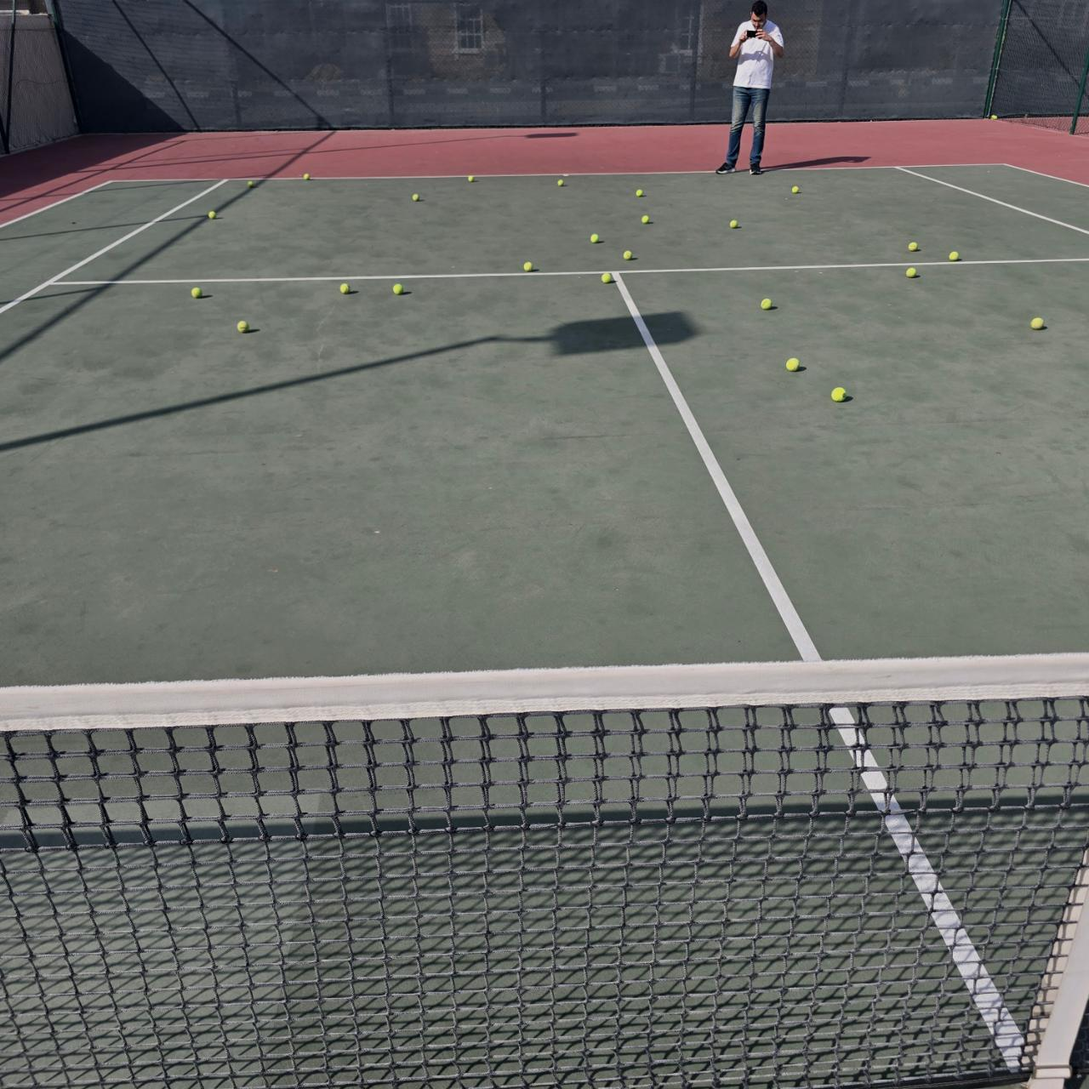tennis-ball: (831, 386, 848, 401), (786, 357, 800, 371), (1030, 316, 1045, 329), (237, 318, 250, 333), (191, 284, 203, 298), (601, 271, 614, 283), (761, 298, 773, 310), (392, 283, 404, 295), (906, 267, 918, 278), (948, 250, 960, 261), (339, 283, 351, 294), (523, 261, 534, 272), (621, 250, 633, 260), (908, 241, 919, 251), (729, 220, 740, 229), (591, 233, 600, 243), (640, 215, 649, 224), (411, 193, 420, 202), (208, 210, 217, 219), (791, 186, 800, 194), (636, 189, 643, 197), (557, 179, 564, 187), (303, 173, 311, 180), (991, 114, 998, 120), (468, 175, 474, 182), (247, 180, 253, 187)
